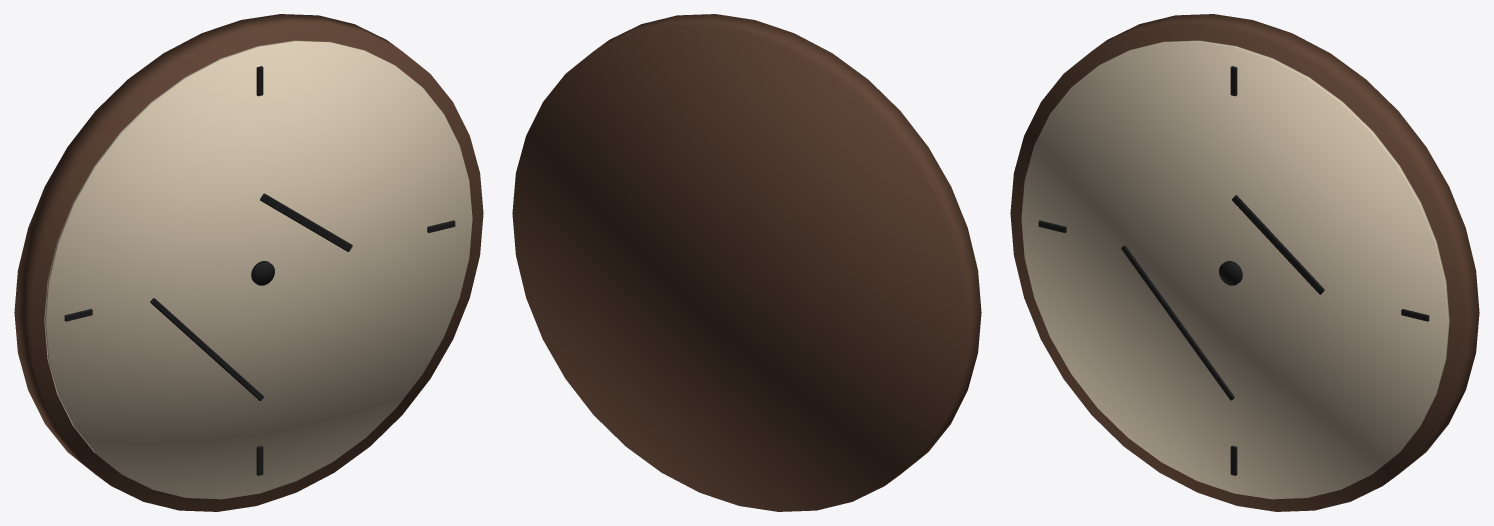
Rendered from i_clock_3.glb.
The picture shows the model from 3 angles, left to right: view 1: azimuth 30°, elevation 25°; view 2: azimuth 150°, elevation 25°; view 3: azimuth 330°, elevation 25°; orthographic projection.
Visible parts, largest first — view 1: o.001, o, o.007, o.006; view 2: o; view 3: o.001, o, o.007, o.006.
Part boxes in pixels (box(x1,y1,x2,y2)): o.001: box(44, 40, 472, 499); o: box(14, 14, 483, 511); o.007: box(150, 298, 263, 400); o.006: box(260, 193, 352, 251); o: box(512, 14, 981, 511); o.001: box(1021, 40, 1449, 499); o: box(1010, 14, 1479, 511); o.007: box(1121, 245, 1234, 400); o.006: box(1232, 195, 1324, 294).
Size of the model in its own units: 0.5 by 0.5 by 0.044.
